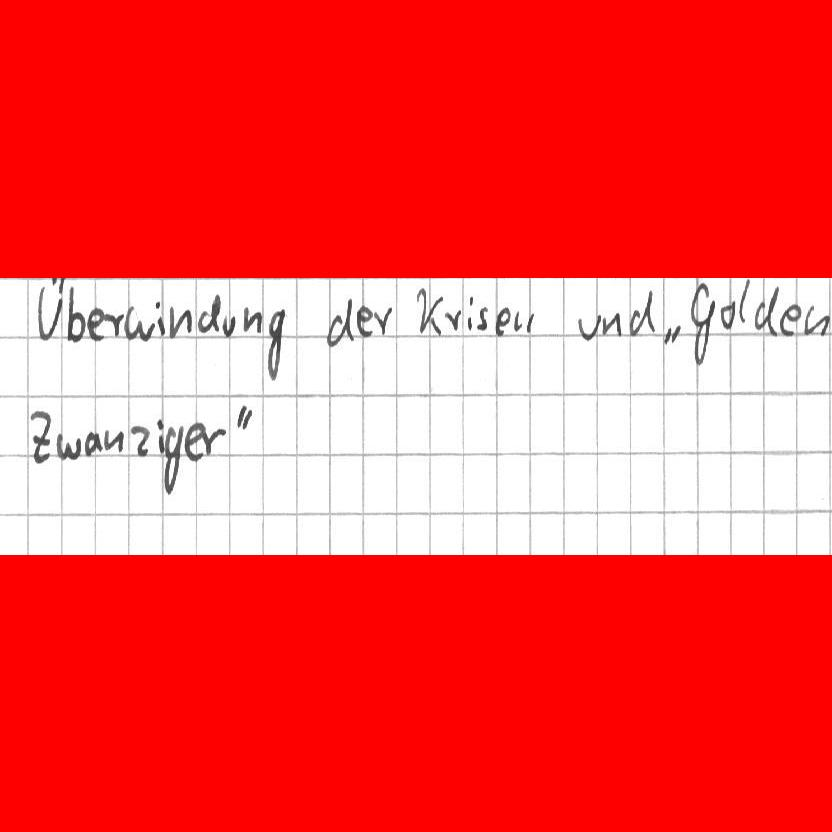Char: (687, 279, 717, 366), (34, 274, 66, 344), (265, 307, 286, 384), (324, 296, 355, 348), (163, 423, 184, 496), (753, 283, 780, 338), (628, 287, 658, 336), (29, 409, 53, 467), (415, 286, 443, 335), (123, 305, 155, 344), (67, 282, 87, 343), (196, 291, 220, 333), (575, 308, 601, 345), (184, 421, 205, 465), (804, 300, 829, 336), (778, 302, 802, 337), (199, 427, 227, 457), (169, 306, 194, 339), (55, 431, 81, 462), (130, 422, 152, 458), (371, 305, 393, 337), (600, 308, 623, 338), (737, 276, 752, 322), (86, 305, 104, 343), (102, 308, 124, 339), (242, 304, 263, 336), (232, 403, 254, 432), (357, 302, 374, 338), (512, 307, 533, 334), (493, 304, 510, 337), (719, 298, 737, 329), (103, 427, 124, 452), (661, 321, 682, 345), (154, 299, 167, 337), (444, 306, 463, 331), (84, 431, 102, 457), (475, 305, 490, 331), (154, 417, 164, 455), (220, 312, 235, 337), (465, 294, 474, 332)
